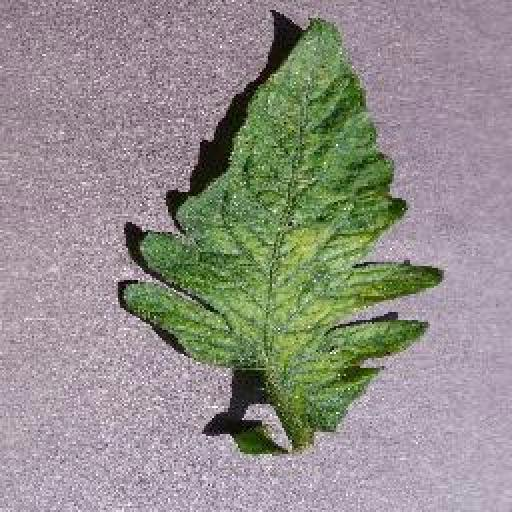disease_tomato: (118, 13, 448, 435)
